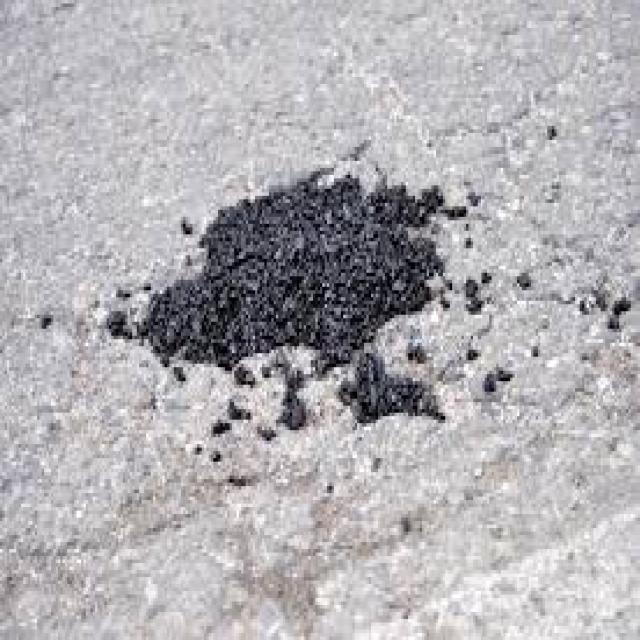Pothole: (104, 171, 464, 430)
